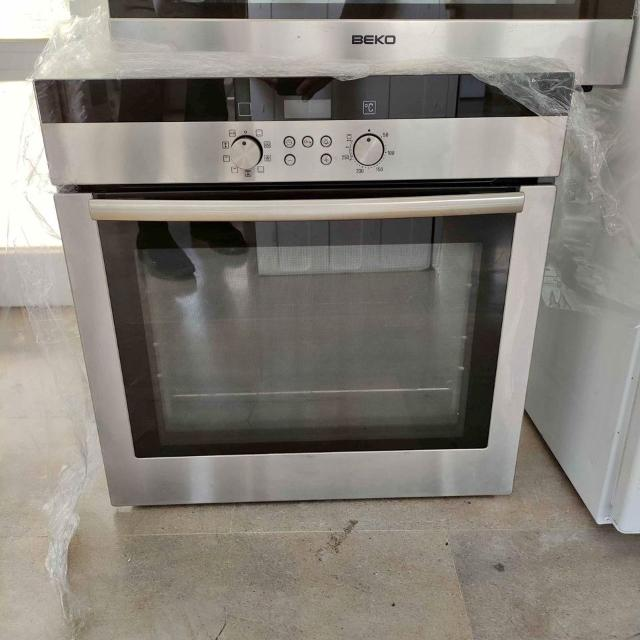Oven: (34, 76, 582, 498)
